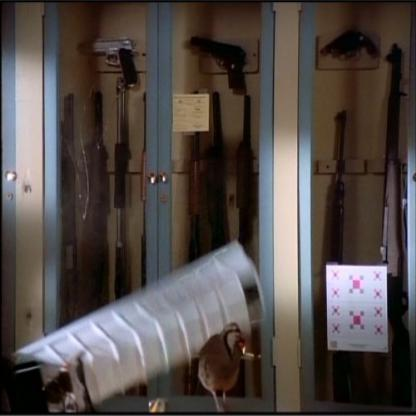Guns: (314, 29, 415, 408), (172, 29, 260, 396), (59, 33, 144, 393)
